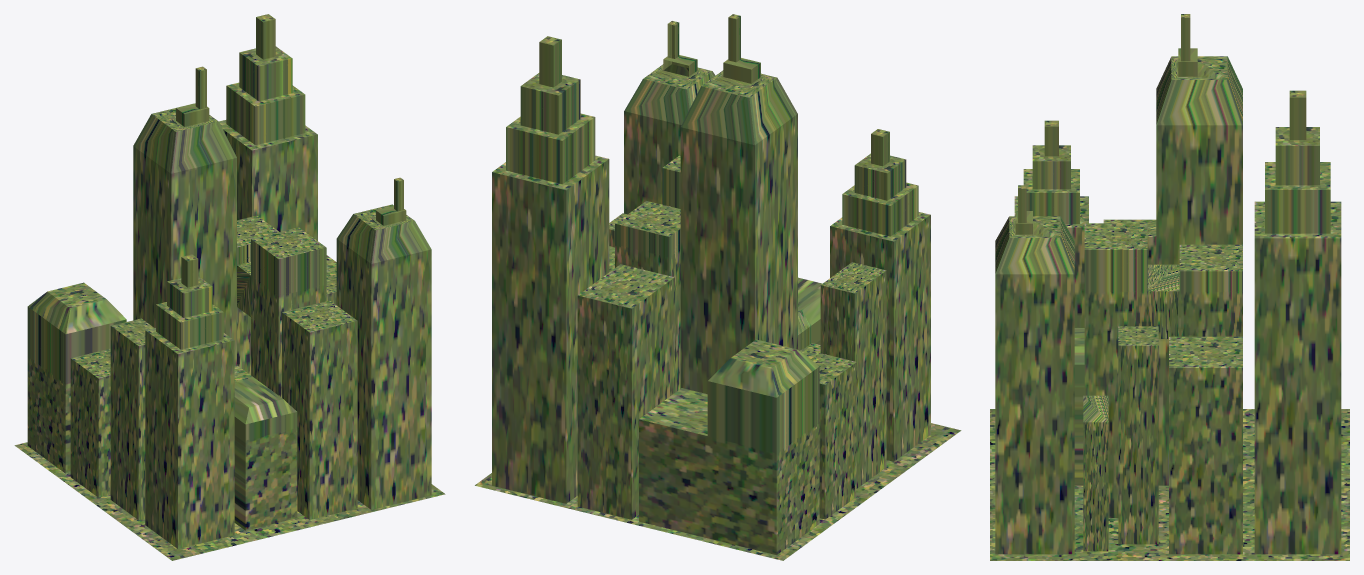
File: Mesh_CityTile.fbx
3 views of the same model, side by side, from view 1: azimuth 30°, elevation 25°; view 2: azimuth 150°, elevation 25°; view 3: azimuth 270°, elevation 25° (orthographic). The views are drawn at different scales.
Visible parts, largest first — view 1: CityTile; view 2: CityTile; view 3: CityTile.
Boxes of the visible parts, x1=… form: CityTile: x1=14, y1=14, x2=445, y2=560; CityTile: x1=475, y1=14, x2=961, y2=560; CityTile: x1=990, y1=14, x2=1349, y2=560.
Bounding box in the file's own units: 10000 × 14015 × 10000.
